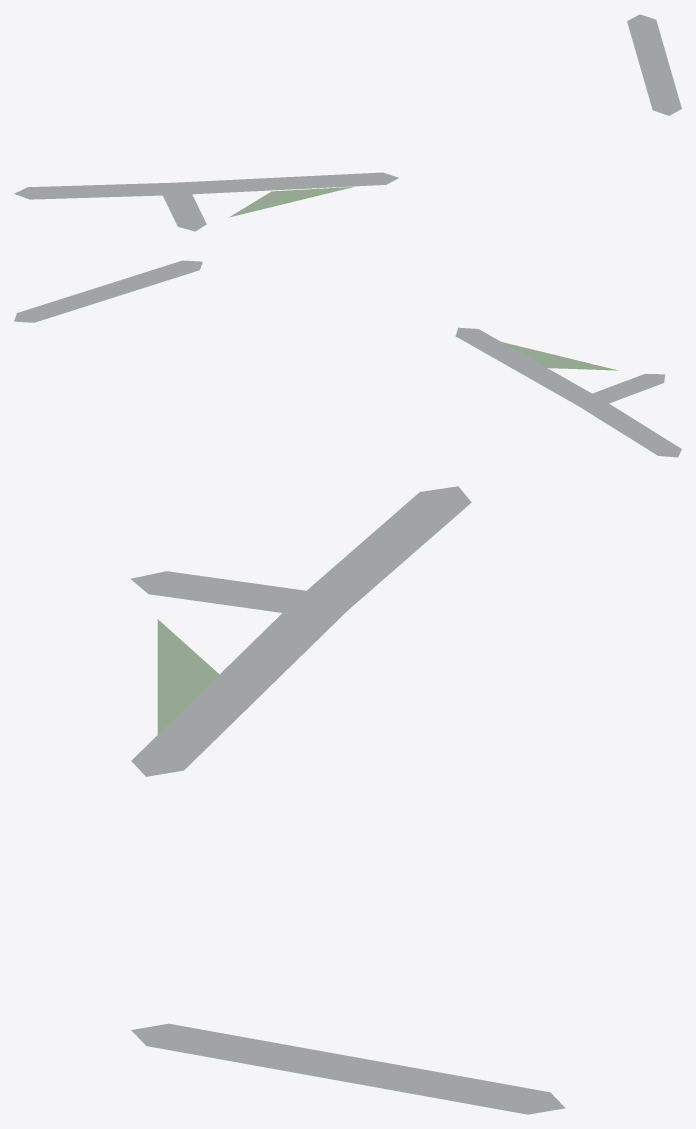
The model's file is 2_-2-known-fine.glb.
The picture shows the model from 3 angles, top to bottom: view 1: azimuth 30°, elevation 25°; view 2: azimuth 150°, elevation 25°; view 3: azimuth 270°, elevation 25°; orthographic projection. The views are drawn at different scales.
Bounding box in the file's own units: 77.44 × 0.1 × 22.68.
